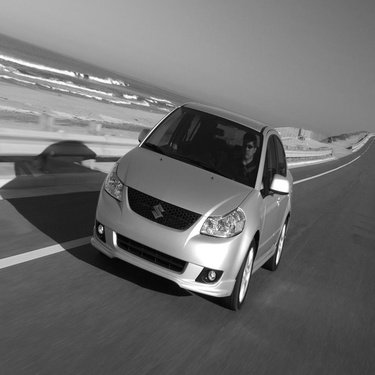car: (80, 86, 299, 312)
